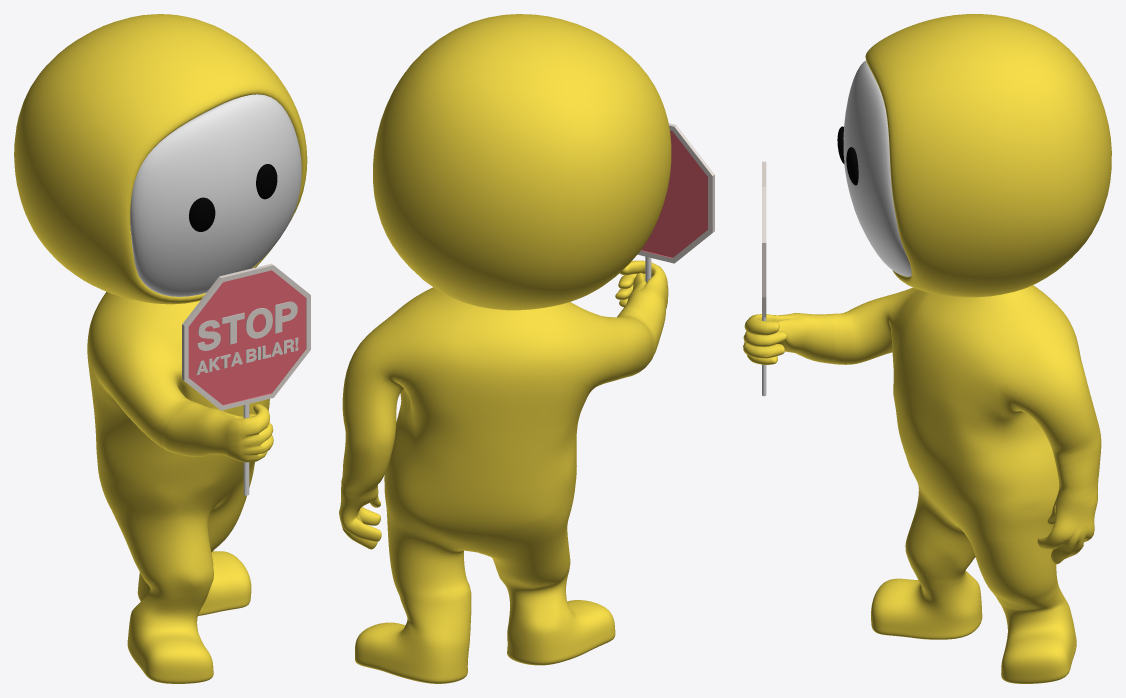
The model's file is STOPP.glb.
3 views of the same model, side by side, from view 1: azimuth 30°, elevation 25°; view 2: azimuth 150°, elevation 25°; view 3: azimuth 270°, elevation 25° (orthographic). The views are drawn at different scales.
Visible parts, largest first — view 1: Cube.017; view 2: Cube.017; view 3: Cube.017.
Boxes of the visible parts, bbox=[...] form: Cube.017: bbox=[14, 14, 310, 683]; Cube.017: bbox=[339, 14, 714, 683]; Cube.017: bbox=[743, 14, 1111, 683].
Bounding box in the file's own units: 0.5794 × 1.37 × 0.7544.
